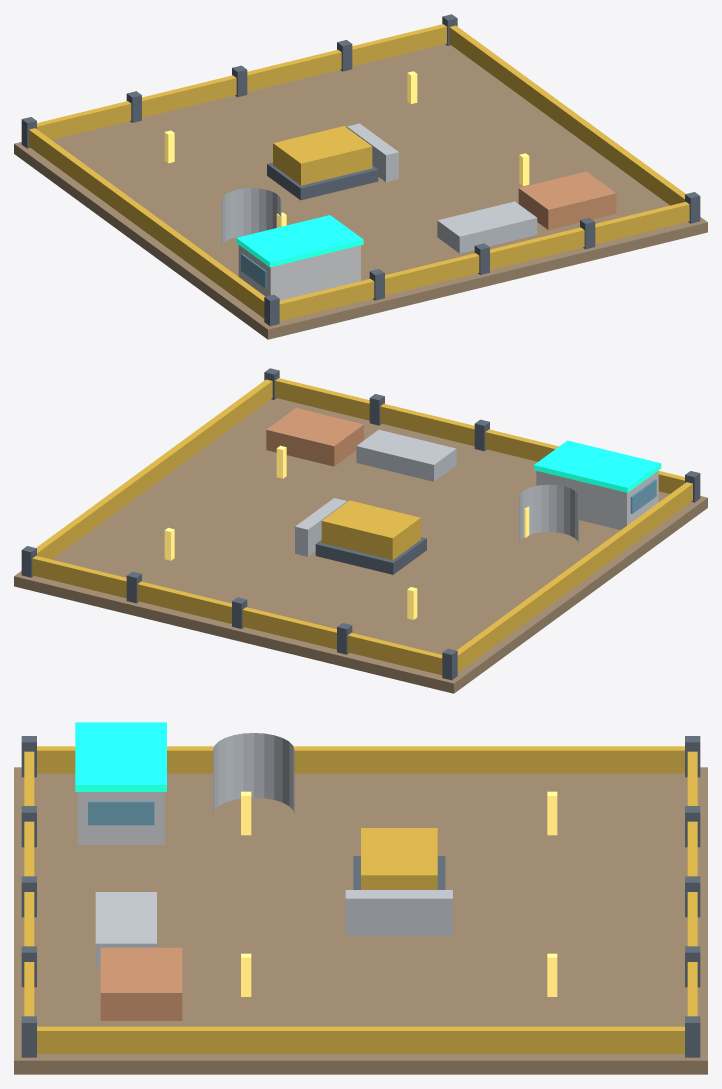
The model's file is stage_1_site_prep.master.glb.
3 views of the same model, one above another, from view 1: azimuth 30°, elevation 25°; view 2: azimuth 150°, elevation 25°; view 3: azimuth 270°, elevation 25° (orthographic). The views are drawn at different scales.
Parts seen in each view (by area): view 1: stage_1_site_prep_master; view 2: stage_1_site_prep_master; view 3: stage_1_site_prep_master.
Boxes of the visible parts, x1,y1,x2,y2 form: stage_1_site_prep_master: (14, 14, 707, 339); stage_1_site_prep_master: (14, 368, 707, 693); stage_1_site_prep_master: (14, 722, 707, 1074).
Bounding box in the file's own units: 2.72 × 0.34 × 2.72.
